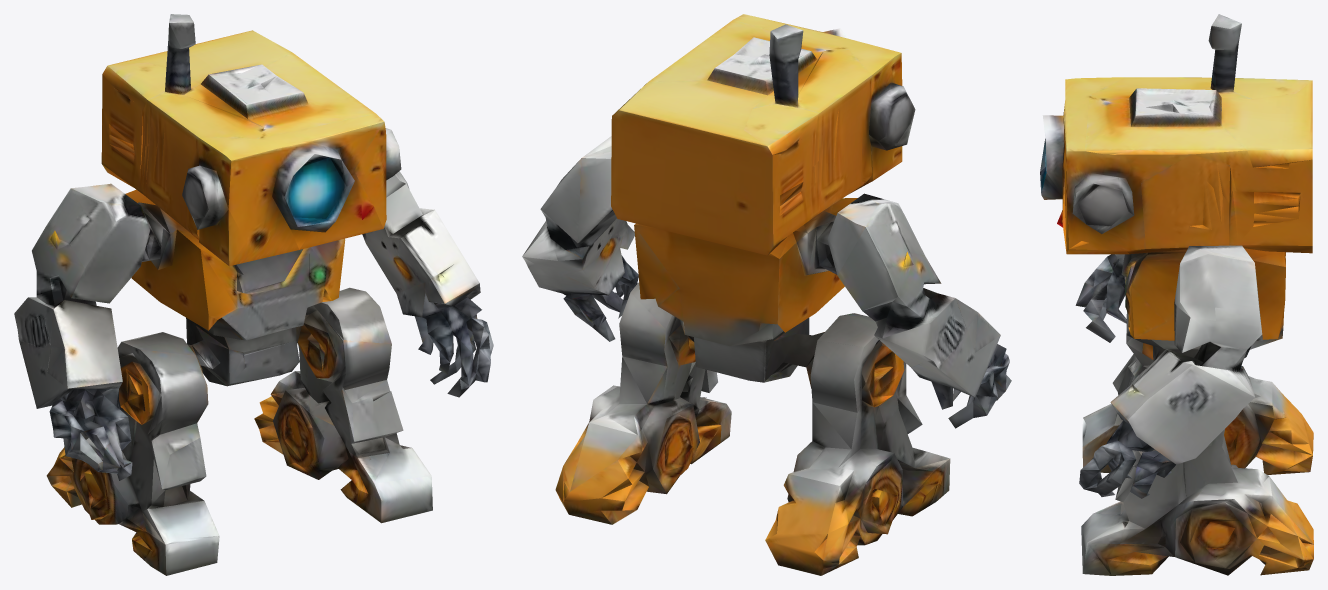
The model's file is m2TreadBot.glb.
3 views of the same model, side by side, from view 1: azimuth 30°, elevation 25°; view 2: azimuth 150°, elevation 25°; view 3: azimuth 270°, elevation 25° (orthographic). The views are drawn at different scales.
Parts seen in each view (by area): view 1: model; view 2: model; view 3: model.
Boxes of the visible parts, bbox=[...] form: model: bbox=[14, 14, 493, 575]; model: bbox=[522, 14, 1011, 575]; model: bbox=[1040, 14, 1313, 575].
Size of the model in its own units: 1.75 by 1.91 by 1.
1 material, 1 textured.
